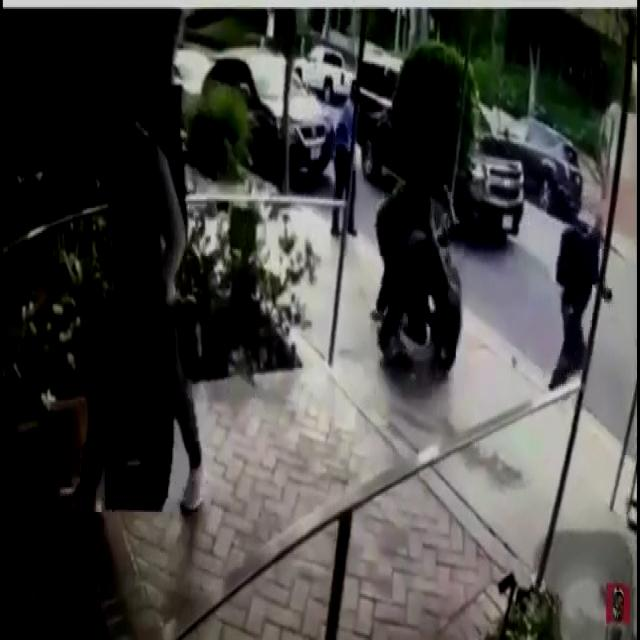fight: (368, 163, 462, 377)
